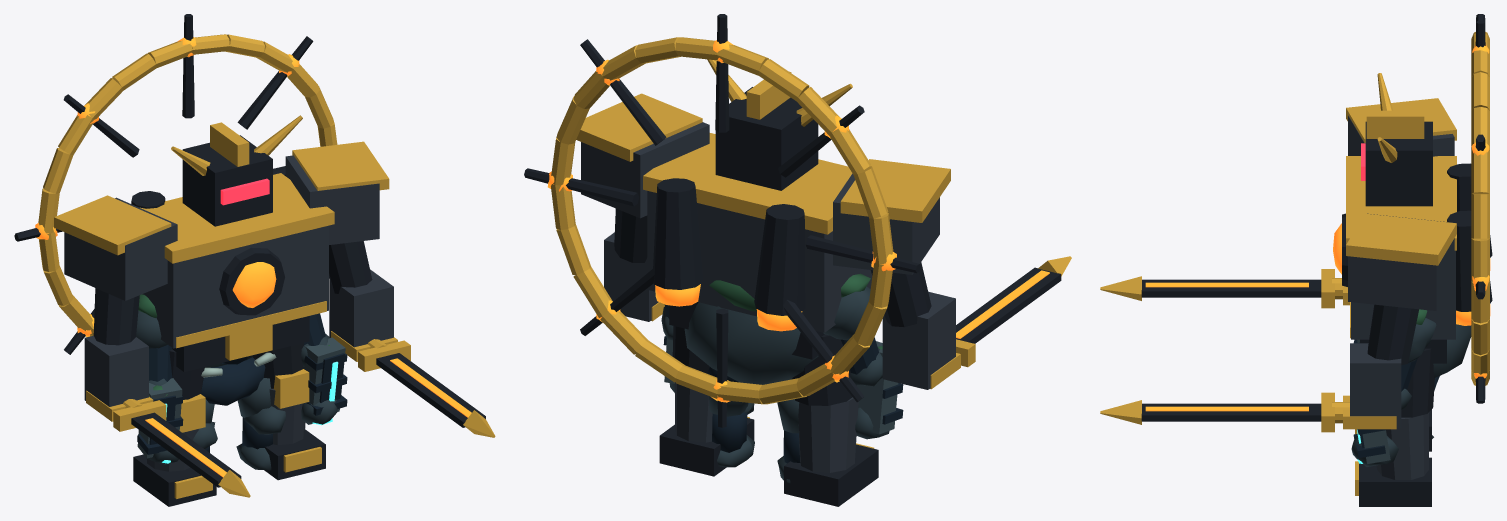
File: v082_bosses.glb
3 renders of one model, left to right at view 1: azimuth 30°, elevation 25°; view 2: azimuth 150°, elevation 25°; view 3: azimuth 270°, elevation 25°, orthographic. The views are drawn at different scales.
Visible parts, largest first — view 1: overlord_body, overlord_arm_l, overlord_arm_r, overlord_halo_ring, overlord_head, warden_body, arm_right_pivot, arm_left_pivot; view 2: overlord_body, overlord_halo_ring, overlord_arm_l, overlord_arm_r, warden_body, overlord_head, arm_left_pivot; view 3: overlord_arm_r, overlord_body, overlord_arm_l, overlord_halo_ring, overlord_head, arm_right_pivot, warden_body.
Part boxes in pixels (box(x1,y1,x2,y2)): overlord_body: box(131, 173, 334, 506); overlord_arm_l: box(54, 195, 250, 497); overlord_arm_r: box(285, 141, 495, 437); overlord_halo_ring: box(14, 14, 337, 354); overlord_head: box(171, 115, 302, 226); warden_body: box(192, 352, 285, 470); arm_right_pivot: box(301, 313, 347, 425); arm_left_pivot: box(136, 294, 183, 464); overlord_body: box(643, 133, 878, 506); overlord_halo_ring: box(524, 14, 920, 427); overlord_arm_l: box(833, 159, 1071, 389); overlord_arm_r: box(576, 93, 709, 321); warden_body: box(684, 280, 818, 483); overlord_head: box(707, 59, 852, 190); arm_left_pivot: box(823, 273, 903, 439); overlord_arm_r: box(1100, 213, 1456, 432); overlord_body: box(1333, 156, 1492, 506); overlord_arm_l: box(1100, 98, 1456, 308); overlord_halo_ring: box(1471, 14, 1489, 403); overlord_head: box(1361, 73, 1432, 206); arm_right_pivot: box(1351, 309, 1436, 466); warden_body: box(1432, 324, 1471, 438).
Size of the model in its own units: 4.16 by 5 by 3.96.
